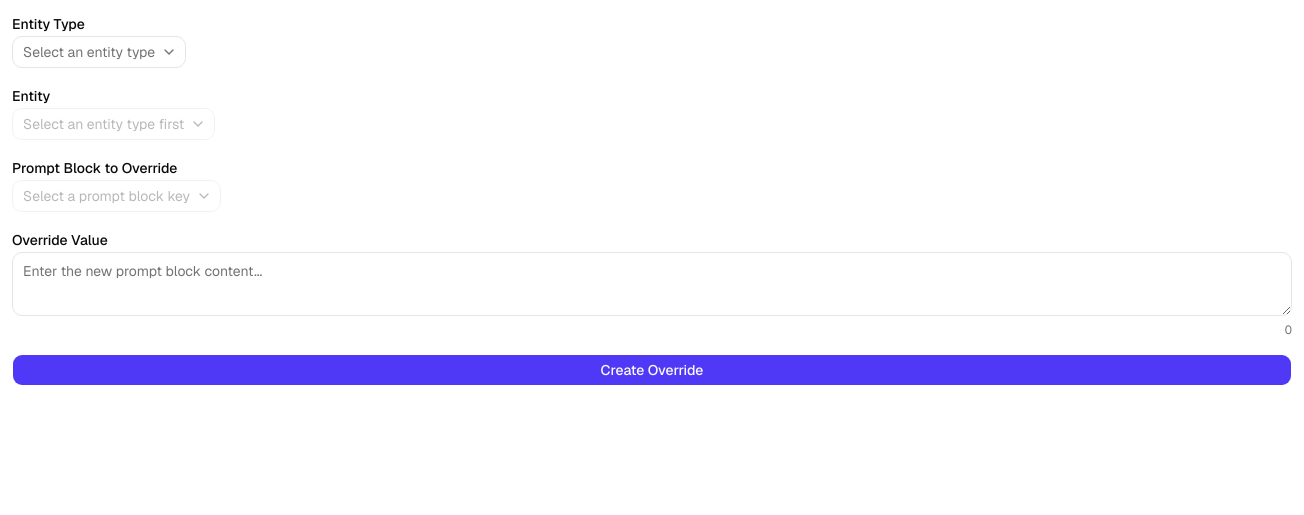
it: OverrideForm › shows validation errors for empty required fields
The image size is (1304, 515).
Click the button "Create Override": [652, 370] box [12,354,1292,386]
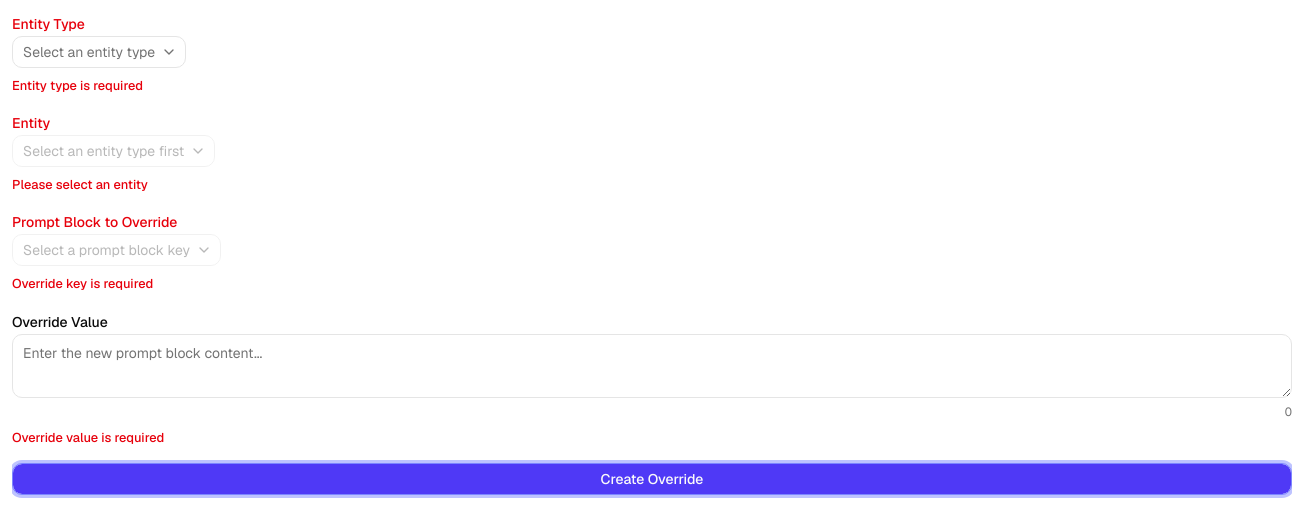
Now the text "Entity type is required" is shown, box [12,77,143,94]
Now the text "Please select an entity" is shown, box [12,176,148,193]
Now the text "Override key is required" is shown, box [12,275,153,292]
